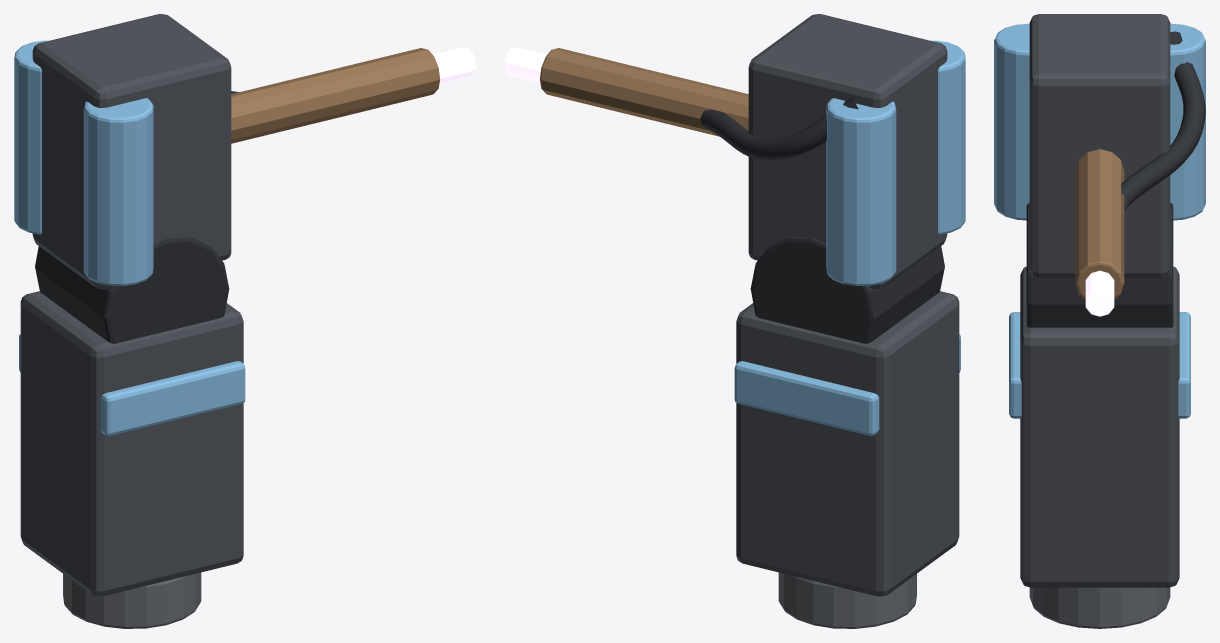
The model's file is module_arm_welder.fbx.
3 views of the same model, side by side, from view 1: azimuth 30°, elevation 25°; view 2: azimuth 150°, elevation 25°; view 3: azimuth 270°, elevation 25° (orthographic).
Parts seen in each view (by area): view 1: SM_Module_ArmWelder; view 2: SM_Module_ArmWelder; view 3: SM_Module_ArmWelder.
Part boxes in pixels (x1,y1,x2,y2): SM_Module_ArmWelder: (14,14,475,628); SM_Module_ArmWelder: (504,14,965,628); SM_Module_ArmWelder: (994,14,1205,628).
Size of what is drawn, in the model's own units: 51.8 by 65.5 by 22.6.
